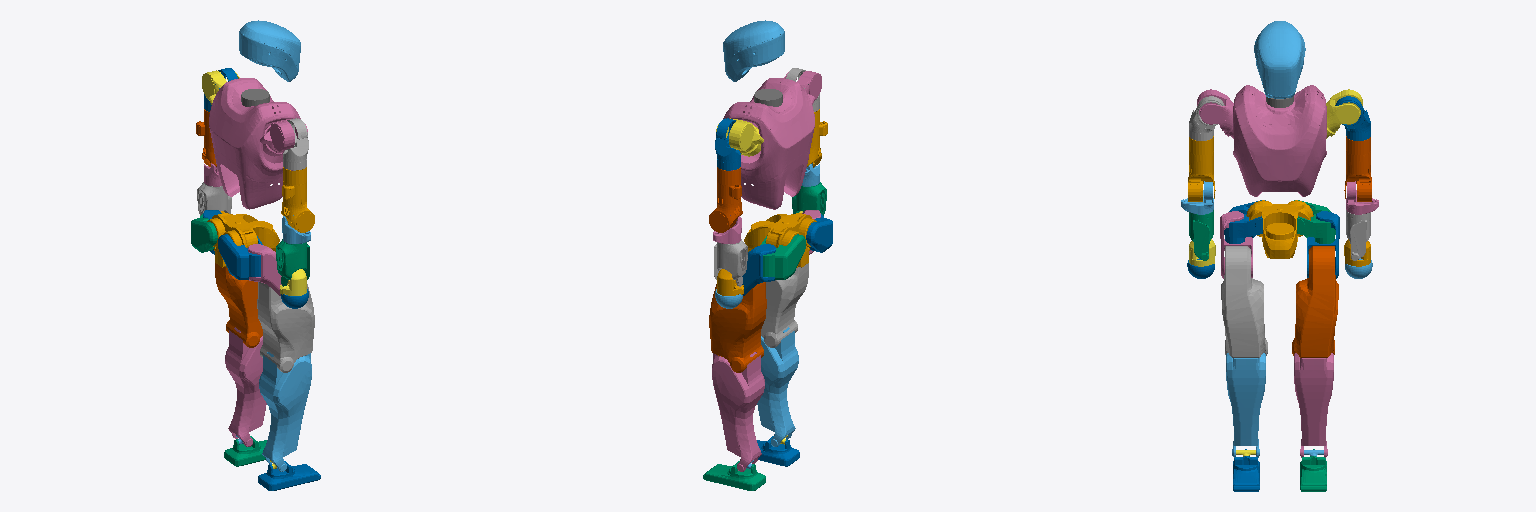
--- Facts derived from the render (not from the file) ---
The picture shows the robot from 3 angles, left to right: view 1: azimuth 30°, elevation 25°; view 2: azimuth 150°, elevation 25°; view 3: azimuth 270°, elevation 25°; orthographic projection.
Robot: Alexander — 51 links, 50 joints (29 revolute, 21 fixed); root link PELVIS_LINK; default pose: every joint at zero.
Links seen in each view (by area): view 1: TORSO_LINK, RIGHT_SHIN, RIGHT_THIGH, LEFT_SHIN, HEAD_LINK, LEFT_THIGH, PELVIS_LINK, RIGHT_SHOULDER_Z_LINK, RIGHT_HIP_X_LINK, RIGHT_FOOT, RIGHT_WRIST_Z_LINK, RIGHT_SHOULDER_Y_LINK (+6 smaller); view 2: TORSO_LINK, LEFT_SHIN, LEFT_THIGH, RIGHT_SHIN, HEAD_LINK, RIGHT_THIGH, PELVIS_LINK, LEFT_SHOULDER_Z_LINK, LEFT_HIP_X_LINK, LEFT_FOOT, LEFT_WRIST_Z_LINK, LEFT_SHOULDER_Y_LINK (+6 smaller); view 3: TORSO_LINK, LEFT_THIGH, RIGHT_THIGH, HEAD_LINK, LEFT_SHIN, RIGHT_SHIN, PELVIS_LINK, LEFT_SHOULDER_Z_LINK, RIGHT_SHOULDER_Z_LINK, LEFT_SHOULDER_Y_LINK, RIGHT_SHOULDER_Y_LINK, LEFT_FOOT (+11 smaller).
Boxes of the visible links, <box> form: TORSO_LINK: <box>209,78,300,209</box>; RIGHT_SHIN: <box>259,352,311,471</box>; RIGHT_THIGH: <box>257,282,314,372</box>; LEFT_SHIN: <box>225,327,266,446</box>; HEAD_LINK: <box>239,20,300,81</box>; LEFT_THIGH: <box>215,263,262,347</box>; PELVIS_LINK: <box>207,213,279,267</box>; RIGHT_SHOULDER_Z_LINK: <box>281,167,314,232</box>; RIGHT_HIP_X_LINK: <box>218,234,262,279</box>; RIGHT_FOOT: <box>258,461,320,490</box>; RIGHT_WRIST_Z_LINK: <box>276,239,309,286</box>; RIGHT_SHOULDER_Y_LINK: <box>260,118,307,156</box>; TORSO_LINK: <box>723,78,814,209</box>; LEFT_SHIN: <box>712,352,764,471</box>; LEFT_THIGH: <box>709,282,766,372</box>; RIGHT_SHIN: <box>757,327,798,446</box>; HEAD_LINK: <box>723,20,784,81</box>; RIGHT_THIGH: <box>761,263,808,347</box>; PELVIS_LINK: <box>744,213,816,267</box>; LEFT_SHOULDER_Z_LINK: <box>709,167,742,232</box>; LEFT_HIP_X_LINK: <box>761,234,805,279</box>; LEFT_FOOT: <box>703,461,765,490</box>; LEFT_WRIST_Z_LINK: <box>714,239,747,286</box>; LEFT_SHOULDER_Y_LINK: <box>716,118,763,156</box>; TORSO_LINK: <box>1233,85,1326,196</box>; LEFT_THIGH: <box>1292,246,1338,357</box>; RIGHT_THIGH: <box>1221,246,1267,357</box>; HEAD_LINK: <box>1254,21,1305,98</box>; LEFT_SHIN: <box>1294,353,1333,457</box>; RIGHT_SHIN: <box>1226,353,1265,457</box>; PELVIS_LINK: <box>1246,200,1313,258</box>; LEFT_SHOULDER_Z_LINK: <box>1344,136,1371,201</box>; RIGHT_SHOULDER_Z_LINK: <box>1188,136,1215,201</box>; LEFT_SHOULDER_Y_LINK: <box>1326,89,1362,138</box>; RIGHT_SHOULDER_Y_LINK: <box>1197,89,1233,138</box>; LEFT_FOOT: <box>1300,449,1326,491</box>.
Bounding box of the posed robot: 0.3464 × 0.7058 × 1.76 m (x, y, z).
Meshes: 27 distinct files referenced, 31 mesh visuals loaded (27 OBJ).

The robot description file, URDF, robot "Alexander":
<?xml version = "1.0" ?>
<robot name="Alexander">
    <!-- LEFT LEG JOINTS -->
    <joint name="LEFT_HIP_X" type="revolute">
        <origin rpy="0 0 0" xyz="-0.162	0.0595	-0.015"/>
        <axis xyz="1 0 0"/>
        <parent link="PELVIS_LINK"/>
        <child link="LEFT_HIP_X_LINK"/>
        <limit effort="150" lower="-0.3490658504" upper="0.872664626" velocity="9"/>
        <dynamics damping="0.05" friction="0.0"/>
    </joint>
    <joint name="LEFT_HIP_Z" type="revolute">
        <origin rpy="0 0 0" xyz="0.06	0.1	-0.08"/>
        <axis xyz="0 0 1"/>
        <parent link="LEFT_HIP_X_LINK"/>
        <child link="LEFT_HIP_Z_LINK"/>
        <limit effort="60" lower="-0.3490658504" upper="1.0472" velocity="11"/>
        <dynamics damping="0.05" friction="0.0"/>
    </joint>
    <joint name="LEFT_HIP_Y" type="revolute">
        <origin rpy="0 0 0" xyz="0.1045	-0.0573	-0.0525"/>
        <axis xyz="0 1 0"/>
        <parent link="LEFT_HIP_Z_LINK"/>
        <child link="LEFT_THIGH"/>
        <limit effort="200" lower="-2.61799" upper="0.785398" velocity="8"/>
        <dynamics damping="0.05" friction="0.0"/>
    </joint>
    <joint name="LEFT_KNEE_Y" type="revolute">
        <origin rpy="0 0 0" xyz="0	0.018	-0.32"/>
        <axis xyz="0 1 0"/>
        <parent link="LEFT_THIGH"/>
        <child link="LEFT_SHIN"/>
        <limit effort="200" lower="0" upper="2.445206282" velocity="8"/>
        <dynamics damping="0.05" friction="0.0"/>
    </joint>
    <joint name="LEFT_ANKLE_Y" type="revolute">
        <origin rpy="0 0 0" xyz="0	0	-0.41"/>
        <axis xyz="0 1 0"/>
        <parent link="LEFT_SHIN"/>
        <child link="LEFT_ANKLE_Y_LINK"/>
        <limit effort="180" lower="-1.0472" upper="0.523599" velocity="8"/>
        <dynamics damping="0.05" friction="0.0"/>
    </joint>
    <joint name="LEFT_ANKLE_X" type="revolute">
        <origin rpy="0 0 0" xyz="0	0	-0.012"/>
        <axis xyz="1 0 0"/>
        <parent link="LEFT_ANKLE_Y_LINK"/>
        <child link="LEFT_FOOT"/>
        <limit effort="90" lower="-0.436332" upper="0.436332" velocity="8"/>
        <dynamics damping="0.05" friction="0.0"/>
    </joint>

    <!-- RIGHT LEG JOINTS -->
    <joint name="RIGHT_HIP_X" type="revolute">
        <origin rpy="0 0 0" xyz="-0.162	-0.0595	-0.015"/>
        <axis xyz="1 0 0"/>
        <parent link="PELVIS_LINK"/>
        <child link="RIGHT_HIP_X_LINK"/>
        <limit effort="150" lower="-0.872664626" upper="0.3490658504" velocity="9"/>
        <dynamics damping="0.05" friction="0.0"/>
    </joint>
    <joint name="RIGHT_HIP_Z" type="revolute">
        <origin rpy="0 0 0" xyz="0.06	-0.1	-0.08"/>
        <axis xyz="0 0 1"/>
        <parent link="RIGHT_HIP_X_LINK"/>
        <child link="RIGHT_HIP_Z_LINK"/>
        <limit effort="60" lower="-1.0472" upper="0.3490658504" velocity="11"/>
        <dynamics damping="0.05" friction="0.0"/>
    </joint>
    <joint name="RIGHT_HIP_Y" type="revolute">
        <origin rpy="0 0 0" xyz="0.1045	0.0573	-0.0525"/>
        <axis xyz="0 1 0"/>
        <parent link="RIGHT_HIP_Z_LINK"/>
        <child link="RIGHT_THIGH"/>
        <limit effort="200" lower="-2.61799" upper="0.785398" velocity="8"/>
        <dynamics damping="0.05" friction="0.0"/>
    </joint>
    <joint name="RIGHT_KNEE_Y" type="revolute">
        <origin rpy="0 0 0" xyz="0	-0.018	-0.32"/>
        <axis xyz="0 1 0"/>
        <parent link="RIGHT_THIGH"/>
        <child link="RIGHT_SHIN"/>
        <limit effort="200" lower="0" upper="2.445206282" velocity="8"/>
        <dynamics damping="0.05" friction="0.0"/>
    </joint>
    <joint name="RIGHT_ANKLE_Y" type="revolute">
        <origin rpy="0 0 0" xyz="0	0	-0.41"/>
        <axis xyz="0 1 0"/>
        <parent link="RIGHT_SHIN"/>
        <child link="RIGHT_ANKLE_Y_LINK"/>
        <limit effort="180" lower="-1.0472" upper="0.523599" velocity="8"/>
        <dynamics damping="0.05" friction="0.0"/>
    </joint>
    <joint name="RIGHT_ANKLE_X" type="revolute">
        <origin rpy="0 0 0" xyz="0	0	-0.012"/>
        <axis xyz="1 0 0"/>
        <parent link="RIGHT_ANKLE_Y_LINK"/>
        <child link="RIGHT_FOOT"/>
        <limit effort="90" lower="-0.436332" upper="0.436332" velocity="8"/>
        <dynamics damping="0.05" friction="0.0"/>
    </joint>

    <!-- SPINE JOINTS -->
    <joint name="SPINE_Z" type="revolute">
        <origin rpy="0 0 0" xyz="0.0 0 0.018"/> <!-- check with CAD -->
        <axis xyz="0 0 1"/>
        <parent link="PELVIS_LINK"/>
        <child link="TORSO_LINK"/>
        <limit effort="150" lower="-0.5235987756" upper="0.5235987756" velocity="9.0"/>
        <dynamics damping="0.05" friction="0.0"/>
    </joint>

    <!-- LEFT ARM JOINTS -->
    <joint name="LEFT_SHOULDER_Y" type="revolute">
        <origin xyz="-0.015 0.115474 0.352984" rpy="0.698132 0.0 0.0"/>
        <axis xyz="0.0 1.0 0.0"/>
        <parent link="TORSO_LINK"/>
        <child link="LEFT_SHOULDER_Y_LINK"/>
        <limit effort="150.0" lower="-3.141592" upper="1.22173" velocity="9.0"/>
        <dynamics damping="0.05" friction="0.0"/>
    </joint>
    <joint name="LEFT_SHOULDER_X" type="revolute">
        <origin rpy="-0.698132 0.0 0.0" xyz="0.0 0.15676000 -0.01300000"/>
        <axis xyz="1 0 0"/>
        <parent link="LEFT_SHOULDER_Y_LINK"/>
        <child link="LEFT_SHOULDER_X_LINK"/>
        <limit effort="150.0" lower="-0.349066" upper="2.79253" velocity="9.0"/>
        <dynamics damping="0.05" friction="0.0"/>
    </joint>
    <joint name="LEFT_SHOULDER_Z" type="revolute">
        <origin rpy="0.0 0.0 0.0" xyz="0.0 0.035 0.0"/>
        <axis xyz="0.0 0.0 1.0"/>
        <parent link="LEFT_SHOULDER_X_LINK"/>
        <child link="LEFT_SHOULDER_Z_LINK"/>
        <limit effort="80.0" lower="-1.91986" upper="1.22173" velocity="11.5"/>
        <dynamics damping="0.05" friction="0.0"/>
    </joint>
    <joint name="LEFT_ELBOW_Y" type="revolute">
        <origin rpy="0.0 0.0 0.0" xyz="0.015 0.0 -0.3127"/>
        <axis xyz="0.0 1.0 0.0"/>
        <parent link="LEFT_SHOULDER_Z_LINK"/>
        <child link="LEFT_ELBOW_Y_LINK"/>
        <limit effort="80.0" lower="-2.35619" upper="0.174532925" velocity="11.5"/>
        <dynamics damping="0.05" friction="0.0"/>
    </joint>
    <joint name="LEFT_WRIST_Z" type="revolute">
        <origin xyz="-0.015 0.0 0.0" rpy="0.0 0.0 0.0"/>
        <axis xyz="0.0 0.0 1.0"/>
        <parent link="LEFT_ELBOW_Y_LINK"/>
        <child link="LEFT_WRIST_Z_LINK"/>
        <limit effort="20.0" lower="-2.61799" upper="2.61799" velocity="25.0"/>
        <dynamics damping="0.05" friction="0.0"/>
    </joint>
    <joint name="LEFT_WRIST_X" type="revolute">
        <origin xyz="0.0 -0.013 -0.25" rpy="0.0 0.0 0.0"/>
        <axis xyz="1 0 0"/>
        <parent link="LEFT_WRIST_Z_LINK"/>
        <child link="LEFT_WRIST_X_LINK"/>
        <limit effort="20.0" lower="-1.8326" upper="0.610865" velocity="25.0"/>
        <dynamics damping="0.05" friction="0.0"/>
    </joint>
    <joint name="LEFT_GRIPPER_Z" type="revolute">
        <origin xyz="0.0 0.013 -0.031" rpy="0.0 0.0 0.0"/>
        <axis xyz="0.0 0.0 1.0"/>
        <parent link="LEFT_WRIST_X_LINK"/>
        <child link="LEFT_GRIPPER_Z_LINK"/>
        <limit effort="20.0" lower="-2.61799" upper="2.61799" velocity="25.0"/>
        <dynamics damping="0.05" friction="0.0"/>
    </joint>

    <!-- NECK JOINTS -->
    <joint name="NECK_Z" type="revolute">
        <origin rpy="0 0 0" xyz="-0.015 0 0.450403"/>
        <axis xyz="0 0 1"/>
        <parent link="TORSO_LINK"/>
        <child link="NECK_Z_LINK"/>
        <limit effort="20" lower="-1.5708" upper="1.5708" velocity="20"/>
        <dynamics damping="0.05" friction="0.0"/>
    </joint>
    <joint name="NECK_Y" type="revolute">
        <origin rpy="0 0 0" xyz="0.025 0.01 0.189597"/>
        <axis xyz="0 1 0"/>
        <parent link="NECK_Z_LINK"/>
        <child link="HEAD_LINK"/>
        <limit effort="20" lower="-1.0472" upper="1.0472" velocity="20"/>
        <dynamics damping="0.05" friction="0.0"/>
    </joint>

    <!-- RIGHT ARM JOINTS -->
    <joint name="RIGHT_SHOULDER_Y" type="revolute">
        <origin xyz="-0.015 -0.115474 0.352984" rpy="-0.698132 0.0 0.0"/>
        <axis xyz="0.0 1.0 0.0"/>
        <parent link="TORSO_LINK"/>
        <child link="RIGHT_SHOULDER_Y_LINK"/>
        <limit effort="1000" lower="-3.141592" upper="1.22173" velocity="100"/>
        <dynamics damping="0.05" friction="0.0"/>
    </joint>
    <joint name="RIGHT_SHOULDER_X" type="revolute">
        <origin rpy="0.698132 0.0 0.0" xyz="0.0 -0.15676000 -0.01300000"/>
        <axis xyz="1 0 0"/>
        <parent link="RIGHT_SHOULDER_Y_LINK"/>
        <child link="RIGHT_SHOULDER_X_LINK"/>
        <limit effort="1000" lower="-2.79253" upper="0.349066" velocity="100"/>
        <dynamics damping="0.05" friction="0.0"/>
    </joint>
    <joint name="RIGHT_SHOULDER_Z" type="revolute">
        <origin rpy="0.0 0.0 0.0" xyz="0.0 -0.035 0.0"/>
        <axis xyz="0.0 0.0 1.0"/>
        <parent link="RIGHT_SHOULDER_X_LINK"/>
        <child link="RIGHT_SHOULDER_Z_LINK"/>
        <limit effort="1000" lower="-1.22173" upper="1.91986" velocity="100"/>
        <dynamics damping="0.05" friction="0.0"/>
    </joint>
    <joint name="RIGHT_ELBOW_Y" type="revolute">
        <origin rpy="0.0 0.0 0.0" xyz="0.015 0.0 -0.3127"/>
        <axis xyz="0.0 1.0 0.0"/>
        <parent link="RIGHT_SHOULDER_Z_LINK"/>
        <child link="RIGHT_ELBOW_Y_LINK"/>
        <limit effort="1000" lower="-2.35619" upper="0.174532925" velocity="100"/>
        <dynamics damping="0.05" friction="0.0"/>
    </joint>
    <joint name="RIGHT_WRIST_Z" type="revolute">
        <origin xyz="-0.015 0.0 0.0" rpy="0.0 0.0 0.0"/>
        <axis xyz="0.0 0.0 1.0"/>
        <parent link="RIGHT_ELBOW_Y_LINK"/>
        <child link="RIGHT_WRIST_Z_LINK"/>
        <limit effort="20.0" lower="-2.61799" upper="2.61799" velocity="25.0"/>
        <dynamics damping="0.05" friction="0.0"/>
    </joint>
    <joint name="RIGHT_WRIST_X" type="revolute">
        <origin xyz="0.0 0.013 -0.25" rpy="0.0 0.0 0.0"/>
        <axis xyz="1 0 0"/>
        <parent link="RIGHT_WRIST_Z_LINK"/>
        <child link="RIGHT_WRIST_X_LINK"/>
        <limit effort="20.0" lower="-0.610865" upper="1.8326" velocity="25.0"/>
        <dynamics damping="0.05" friction="0.0"/>
    </joint>
    <joint name="RIGHT_GRIPPER_Z" type="revolute">
        <origin xyz="0.0 -0.013 -0.031" rpy="0.0 0.0 0.0"/>
        <axis xyz="0.0 0.0 1.0"/>
        <parent link="RIGHT_WRIST_X_LINK"/>
        <child link="RIGHT_GRIPPER_Z_LINK"/>
        <limit effort="20.0" lower="-2.61799" upper="2.61799" velocity="25.0"/>
        <dynamics damping="0.05" friction="0.0"/>
    </joint>

    <!-- LINKS -->
    <link name="PELVIS_LINK">
        <inertial>
            <mass value="9.50083635"/>
            <origin rpy="0 0 0" xyz="-0.08354287 0.00005291 -0.03484828"/>
            <inertia ixx="0.03428688" ixy="0.00001151" ixz="0.00015935" iyy="0.05178848" iyz="0.00004514" izz="0.06001929"/>
        </inertial>
        <visual>
            <geometry>
                <mesh filename="../../meshes/alexander/legs/Pelvis.obj"/>
            </geometry>
            <origin rpy="0.0 0.0 0.0" xyz="0.0 0.0 0.0"/>
        </visual>
        <collision name="pelvis_collision">
            <geometry>
                <box size="0.15 0.10 0.12"/>
            </geometry>
            <origin xyz="0.0 0.0 -0.05" rpy="0.0 0.0 0.0"/>
        </collision>
    </link>
    <!-- Pelvis IMU -->
    <joint name="PELVIS_IMU_JOINT" type="fixed">
        <parent link="PELVIS_LINK"/>
        <child link="PELVIS_IMU_LINK"/>
        <origin xyz="-0.08687724 0.01225028 -0.08051472" rpy="-0.01399 -0.013054 1.570796"/>
    </joint>

    <link name="PELVIS_IMU_LINK">
        <inertial>
            <mass value="0.0"/>
            <origin xyz="0 0 0" rpy="0 0 0"/>
            <inertia ixx="0.0" ixy="0.0" ixz="0.0" iyy="0.0" iyz="0.0" izz="0.0"/>
        </inertial>
    </link>

    <gazebo reference="PELVIS_IMU_LINK">
        <sensor name="pelvis_imu" type="imu">
            <always_on>1</always_on>
            <update_rate>1000.0</update_rate>
            <imu>
                <noise>
                    <type>gaussian</type>
                    <rate>
                        <mean>0.0</mean>
                        <stddev>2e-4</stddev>
                        <bias_mean>0.0000075</bias_mean>
                        <bias_stddev>0.0000008</bias_stddev>
                    </rate>
                    <accel>
                        <mean>0.0</mean>
                        <stddev>1.7e-2</stddev>
                        <bias_mean>0.1</bias_mean>
                        <bias_stddev>0.001</bias_stddev>
                    </accel>
                </noise>
            </imu>
        </sensor>
    </gazebo>
    <!-- end pelvis imu -->

    <!-- LEFT LEG LINKS -->
    <link name="LEFT_HIP_X_LINK">
        <inertial>
            <mass value="2.32977961"/>
            <origin rpy="0 0 0" xyz="0.04350911	0.08708606 -0.03525761"/>
            <inertia ixx="0.00467452" ixy="-0.00058626" ixz="0.00013124" iyy="0.00516613" iyz="0.00048141" izz="0.00553124"/>
        </inertial>
        <visual>
            <geometry>
                <mesh filename="../../meshes/alexander/legs/LeftHipRollLink.obj"/>
            </geometry>
            <origin rpy="0.0 0.0 0.0" xyz="0.0 0.0 0.0"/>
        </visual>
        <collision name="left_hip_x_collision">
            <geometry>
                <box size="0.02 0.12 0.10"/>
            </geometry>
            <origin rpy="0.0 0.0 0.0" xyz="-0.02 0.02 0.0"/>
        </collision>
    </link>

    <!-- LeftHipRollIMU-->
    <link name="LEFT_HIP_X_IMU_LINK">
        <inertial>
            <mass value="0"/>
            <origin rpy="0 0 0" xyz="0 0 0"/>
            <inertia ixx="0.0" ixy="0.0" ixz="0.0" iyy="0.0" iyz="0.0" izz="0.0"/>
        </inertial>
    </link>
    <joint name="LEFT_HIP_X_IMU_JOINT" type="fixed">
        <origin rpy="-1.570796 0 1.570796" xyz="-0.01922309 0.10145013 -0.01488788"/>
        <axis xyz="0 0 1"/>
        <parent link="LEFT_HIP_X_LINK"/>
        <child link="LEFT_HIP_X_IMU_LINK"/>
    </joint>
    <gazebo reference="LEFT_HIP_X_IMU_JOINT">
        <sensor name="left_hip_x_imu" type="imu">
            <always_on>true</always_on>
            <imu>
                <noise>
                    <type>gaussian</type>
                    <rate>
                        <mean>0</mean>
                        <stddev>0.0002</stddev>
                        <bias_mean>7.5e-06</bias_mean>
                        <bias_stddev>8e-07</bias_stddev>
                    </rate>
                    <accel>
                        <mean>0</mean>
                        <stddev>0.017</stddev>
                        <bias_mean>0.1</bias_mean>
                        <bias_stddev>0.001</bias_stddev>
                    </accel>
                </noise>
            </imu>
        </sensor>
    </gazebo>

    <link name="LEFT_HIP_Z_LINK">
        <inertial>
            <mass value="0.77281362"/>
            <origin rpy="0 0 0" xyz="0.04549595	-0.00525571	-0.00937454"/>
            <inertia ixx="0.00317639" ixy="0.00005807" ixz="0.00080598" iyy="0.00345182" iyz="0.00047441" izz="0.00313245"/>
        </inertial>
        <visual>
            <geometry>
                <mesh filename="../../meshes/alexander/legs/LeftHipYawLink.obj"/>
            </geometry>
            <origin rpy="0.0 0.0 0.0" xyz="0 0 0"/>
        </visual>
    </link>
    <link name="LEFT_THIGH">
        <inertial>
            <mass value="7.75"/><!-- CAD Mass 6.31087157 (Hacked April 1 2025 to match IRL Scale of whole robot) -->
            <origin rpy="0 0 0" xyz="0.01417302	0.03268781	-0.10548314"/>
            <inertia ixx="0.09264028" ixy="0.00038532" ixz="0.00916409" iyy="0.09733033" iyz="-0.0043516" izz="0.02803877"/>
        </inertial>
        <visual>
            <geometry>
                <mesh filename="../../meshes/alexander/legs/LeftThigh.obj"/>
            </geometry>
            <origin rpy="0.0 0.0 0.0" xyz="0 0 0"/>
        </visual>
        <collision name="left_thigh_collision">
            <geometry>
                <box size="0.16 0.13 0.29"/> <!-- width (X), depth (Y), height (Z) -->
            </geometry>
            <origin rpy="0.0 0.0 0.0" xyz="0.03 0.03 -0.15"/> <!-- Centered along thigh -->
        </collision>
    </link>
    <link name="LEFT_SHIN">
        <inertial>
            <mass value="6.31087157"/><!-- CAD Mass 6.31087157 (Hacked April 1 2025 to match IRL Scale of whole robot) -->
            <origin rpy="0 0 0" xyz="0.03807965	-0.00108105	-0.12410027"/>
            <inertia ixx="0.08823148" ixy="-0.00054706" ixz="-0.00634132" iyy="0.09163264" iyz="0.00002714" izz="0.01569601"/>
        </inertial>
        <visual>
            <geometry>
                <mesh filename="../../meshes/alexander/legs/LeftShin.obj"/>
            </geometry>
            <origin rpy="0.0 0.0 0.0" xyz="0 0 0"/>
        </visual>
        <collision name="left_shin_collision">
            <geometry>
                <cylinder radius="0.08" length="0.3"/>  <!-- Adjust based on shin dimensions -->
            </geometry>
            <origin rpy="0.0 0.0 0.0" xyz="0.04 0.0 -0.14"/> <!-- Centered along shin -->
        </collision>
    </link>

    <!-- LeftThighIMU-->
    <link name="LEFT_THIGH_IMU_LINK">
        <inertial>
            <mass value="0"/>
            <origin rpy="0 0 0" xyz="0 0 0"/>
            <inertia ixx="0.0" ixy="0.0" ixz="0.0" iyy="0.0" iyz="0.0" izz="0.0"/>
        </inertial>
    </link>
    <joint name="LEFT_THIGH_IMU_JOINT" type="fixed">
        <origin rpy="1.6947717585 0 1.570796" xyz="0.10004 0.03746 -0.21194"/>
        <axis xyz="0 0 1"/>
        <parent link="LEFT_THIGH"/>
        <child link="LEFT_THIGH_IMU_LINK"/>
    </joint>
    <gazebo reference="LEFT_THIGH_IMU_LINK">
        <sensor name="left_thigh_imu" type="imu">
            <always_on>true</always_on>
            <imu>
                <noise>
                    <type>gaussian</type>
                    <rate>
                        <mean>0</mean>
                        <stddev>0.0002</stddev>
                        <bias_mean>7.5e-06</bias_mean>
                        <bias_stddev>8e-07</bias_stddev>
                    </rate>
                    <accel>
                        <mean>0</mean>
                        <stddev>0.017</stddev>
                        <bias_mean>0.1</bias_mean>
                        <bias_stddev>0.001</bias_stddev>
                    </accel>
                </noise>
            </imu>
        </sensor>
    </gazebo>

    <!-- LeftShinIMU-->
    <link name="LEFT_SHIN_IMU_LINK">
        <inertial>
            <mass value="0"/>
            <origin rpy="0 0 0" xyz="0 0 0"/>
            <inertia ixx="0.0" ixy="0.0" ixz="0.0" iyy="0.0" iyz="0.0" izz="0.0"/>
        </inertial>
    </link>
    <joint name="LEFT_SHIN_IMU_JOINT" type="fixed">
        <origin rpy="1.403695170631842 0 -1.570796" xyz="0.05655120 0.00084826 -0.15664831"/>
        <axis xyz="0 0 1"/>
        <parent link="LEFT_SHIN"/>
        <child link="LEFT_SHIN_IMU_LINK"/>
    </joint>
    <gazebo reference="LEFT_SHIN_IMU_LINK">
        <sensor name="left_shin_imu" type="imu">
            <always_on>true</always_on>
            <imu>
                <noise>
                    <type>gaussian</type>
                    <rate>
                        <mean>0</mean>
                        <stddev>0.0002</stddev>
                        <bias_mean>7.5e-06</bias_mean>
                        <bias_stddev>8e-07</bias_stddev>
                    </rate>
                    <accel>
                        <mean>0</mean>
                        <stddev>0.017</stddev>
                        <bias_mean>0.1</bias_mean>
                        <bias_stddev>0.001</bias_stddev>
                    </accel>
                </noise>
            </imu>
        </sensor>
    </gazebo>

    <link name="LEFT_ANKLE_Y_LINK">
        <inertial>
            <mass value="0.05045632"/>
            <origin rpy="0 0 0" xyz="2.94E-07	2.22E-07	-0.00462997"/>
            <inertia ixx="0.00001733" ixy="2.12E-10" ixz="-1.26E-10" iyy="0.00000714" iyz="-2.02E-11" izz="0.00001851"/>
        </inertial>
        <visual>
            <geometry>
                <mesh filename="../../meshes/alexander/legs/AnklePitchLink.obj"/>
            </geometry>
            <origin rpy="0.0 0.0 0.0" xyz="0 0 0"/>
        </visual>
    </link>
    <link name="LEFT_FOOT">
        <inertial>
            <mass value="1.28288609"/>
            <origin rpy="0 0 0" xyz="0.03793372	-0.00000219	-0.0443663"/>
            <inertia ixx="0.00131328" ixy="0.00001057" ixz="0.00036242" iyy="0.00385286" iyz="-0.0000069" izz="0.00406301"/>
        </inertial>
        <visual>
            <geometry>
                <mesh filename="../../meshes/alexander/legs/Foot.obj"/>
            </geometry>
            <origin rpy="0.0 0.0 0.0" xyz="0 0 0"/>
        </visual>
        <collision name="left_foot_collision">
            <geometry>
                <box size="0.22 0.1 0.02"/>
            </geometry>
            <origin rpy="0 0 0" xyz="0.05 0 -0.06"/>
        </collision>
    </link>

    <!-- LeftFootIMU-->
    <link name="LEFT_FOOT_IMU_LINK">
        <inertial>
            <mass value="0"/>
            <origin rpy="0 0 0" xyz="0 0 0"/>
            <inertia ixx="0.0" ixy="0.0" ixz="0.0" iyy="0.0" iyz="0.0" izz="0.0"/>
        </inertial>
    </link>
    <joint name="LEFT_FOOT_IMU_JOINT" type="fixed">
        <origin rpy="0 0 1.570796" xyz="-0.03575526 0.01180178 -0.04979705"/>
        <axis xyz="0 0 1"/>
        <parent link="LEFT_FOOT"/>
        <child link="LEFT_FOOT_IMU_LINK"/>
    </joint>
    <gazebo reference="LEFT_FOOT_IMU_LINK">
        <sensor name="left_foot_imu" type="imu">
            <always_on>true</always_on>
            <imu>
                <noise>
                    <type>gaussian</type>
                    <rate>
                        <mean>0</mean>
                        <stddev>0.0002</stddev>
                        <bias_mean>7.5e-06</bias_mean>
                        <bias_stddev>8e-07</bias_stddev>
                    </rate>
                    <accel>
                        <mean>0</mean>
                        <stddev>0.017</stddev>
                        <bias_mean>0.1</bias_mean>
                        <bias_stddev>0.001</bias_stddev>
                    </accel>
                </noise>
            </imu>
        </sensor>
    </gazebo>

    <!-- RIGHT LEG LINKS -->
    <link name="RIGHT_HIP_X_LINK">
        <inertial>
            <mass value="2.32977248"/>
            <origin rpy="0 0 0" xyz="0.04351957	-0.08688935	-0.03525357"/>
            <inertia ixx="0.00467576" ixy="0.00061004" ixz="0.00013038" iyy="0.00516385" iyz="-0.00047381" izz="0.00552901"/>
        </inertial>
        <visual>
            <geometry>
                <mesh filename="../../meshes/alexander/legs/RightHipRollLink.obj"/>
            </geometry>
            <origin rpy="0.0 0.0 0.0" xyz="0.0 0.0 0.0"/>
        </visual>
        <collision name="right_hip_x_collision">
            <geometry>
                <box size="0.02 0.12 0.10"/>
            </geometry>
            <origin rpy="0.0 0.0 0.0" xyz="-0.02 -0.02 0.0"/>
        </collision>
    </link>

    <!-- RightHipRollIMU-->
    <link name="RIGHT_HIP_X_IMU_LINK">
        <inertial>
            <mass value="0"/>
            <origin rpy="0 0 0" xyz="0 0 0"/>
            <inertia ixx="0.0" ixy="0.0" ixz="0.0" iyy="0.0" iyz="0.0" izz="0.0"/>
        </inertial>
    </link>
    <joint name="RIGHT_HIP_X_IMU_JOINT" type="fixed">
        <origin rpy="-1.570796 0 1.570796" xyz="-0.01922309 -0.07694987 -0.01488788"/>
        <axis xyz="0 0 1"/>
        <parent link="RIGHT_HIP_X_LINK"/>
        <child link="RIGHT_HIP_X_IMU_LINK"/>
    </joint>
    <gazebo reference="RIGHT_HIP_X_IMU_LINK">
        <sensor name="right_hip_x_imu" type="imu">
            <always_on>true</always_on>
            <imu>
                <noise>
                    <type>gaussian</type>
                    <rate>
                        <mean>0</mean>
                        <stddev>0.0002</stddev>
                        <bias_mean>7.5e-06</bias_mean>
                        <bias_stddev>8e-07</bias_stddev>
                    </rate>
                    <accel>
                        <mean>0</mean>
                        <stddev>0.017</stddev>
                        <bias_mean>0.1</bias_mean>
                        <bias_stddev>0.001</bias_stddev>
                    </accel>
                </noise>
            </imu>
        </sensor>
    </gazebo>

    <link name="RIGHT_HIP_Z_LINK">
        <inertial>
            <mass value="0.77281055"/>
            <origin rpy="0 0 0" xyz="0.04549274	0.00525784	-0.00937505"/>
            <inertia ixx="0.00317639" ixy="-0.00005765" ixz="0.00080587" iyy="0.00345166" iyz="-0.00047466" izz="0.00313223"/>
        </inertial>
        <visual>
            <geometry>
                <mesh filename="../../meshes/alexander/legs/RightHipYawLink.obj"/>
            </geometry>
            <origin rpy="0.0 0.0 0.0" xyz="0 0 0"/>
        </visual>
    </link>
    <link name="RIGHT_THIGH">
        <inertial>
            <mass value="7.75"/><!-- CAD Mass 6.31087157 (Hacked April 1 2025 to match IRL Scale of whole robot) -->
            <origin rpy="0 0 0" xyz="0.01411846	-0.03282392	-0.10542795"/>
            <inertia ixx="0.09273162" ixy="-0.00026689" ixz="0.00921343" iyy="0.09738701" iyz="0.00422485" izz="0.02802165"/>
        </inertial>
        <visual>
            <geometry>
                <mesh filename="../../meshes/alexander/legs/RightThigh.obj"/>
            </geometry>
            <origin rpy="0.0 0.0 0.0" xyz="0 0 0"/>
        </visual>
        <collision name="right_thigh_collision">
            <geometry>
                <box size="0.16 0.13 0.29"/><!-- width (X), depth (Y), height (Z) -->
            </geometry>
            <origin rpy="0.0 0.0 0.0" xyz="0.03 -0.03 -0.15"/>
        </collision>
    </link>

    <!-- RightThighIMU-->
    <link name="RIGHT_THIGH_IMU_LINK">
        <inertial>
            <mass value="0"/>
            <origin rpy="0 0 0" xyz="0 0 0"/>
            <inertia ixx="0.0" ixy="0.0" ixz="0.0" iyy="0.0" iyz="0.0" izz="0.0"/>
        </inertial>
    </link>
    <joint name="RIGHT_THIGH_IMU_JOINT" type="fixed">
        <origin rpy="1.6947717585 0 1.570796" xyz="0.10003618 -0.033541826 -0.21194191"/>
        <axis xyz="0 0 1"/>
        <parent link="RIGHT_THIGH"/>
        <child link="RIGHT_THIGH_IMU_LINK"/>
    </joint>
    <gazebo reference="RIGHT_THIGH_IMU_LINK">
        <sensor name="right_thigh_imu" type="imu">
            <always_on>true</always_on>
            <imu>
                <noise>
                    <type>gaussian</type>
                    <rate>
                        <mean>0</mean>
                        <stddev>0.0002</stddev>
                        <bias_mean>7.5e-06</bias_mean>
                        <bias_stddev>8e-07</bias_stddev>
                    </rate>
                    <accel>
                        <mean>0</mean>
                        <stddev>0.017</stddev>
                        <bias_mean>0.1</bias_mean>
                        <bias_stddev>0.001</bias_stddev>
                    </accel>
                </noise>
            </imu>
        </sensor>
    </gazebo>

    <link name="RIGHT_SHIN">
        <inertial>
            <mass value="6.31087157"/><!-- CAD Mass 6.31087157 (Hacked April 1 2025 to match IRL Scale of whole robot) -->
            <origin rpy="0 0 0" xyz="0.03807648	0.00113375	-0.12408765"/>
            <inertia ixx="0.08705693" ixy="0.00057277" ixz="-0.00674654" iyy="0.090231" iyz="0.00028332" izz="0.01554032"/>
        </inertial>
        <visual>
            <geometry>
                <mesh filename="../../meshes/alexander/legs/RightShin.obj"/>
            </geometry>
            <origin rpy="0.0 0.0 0.0" xyz="0 0 0"/>
        </visual>
        <collision name="right_shin_collision">
            <geometry>
                <cylinder radius="0.08" length="0.3"/>
            </geometry>
            <origin rpy="0 0 0" xyz="0.04 0 -0.14"/> <!-- centered along the shin length -->
        </collision>
    </link>

    <!-- RightShinIMU-->
    <link name="RIGHT_SHIN_IMU_LINK">
        <inertial>
            <mass value="0"/>
            <origin rpy="0 0 0" xyz="0 0 0"/>
            <inertia ixx="0.0" ixy="0.0" ixz="0.0" iyy="0.0" iyz="0.0" izz="0.0"/>
        </inertial>
    </link>
    <joint name="RIGHT_SHIN_IMU_JOINT" type="fixed">
        <origin rpy="1.403695170631842 0 -1.570796" xyz="0.05673025 -0.00875818 -0.15674961"/>
        <axis xyz="0 0 1"/>
        <parent link="RIGHT_SHIN"/>
        <child link="RIGHT_SHIN_IMU_LINK"/>
    </joint>
    <gazebo reference="RIGHT_SHIN_IMU_LINK">
        <sensor name="right_shin_imu" type="imu">
            <always_on>true</always_on>
            <imu>
                <noise>
                    <type>gaussian</type>
                    <rate>
                        <mean>0</mean>
                        <stddev>0.0002</stddev>
                        <bias_mean>7.5e-06</bias_mean>
                        <bias_stddev>8e-07</bias_stddev>
                    </rate>
                    <accel>
                        <mean>0</mean>
                        <stddev>0.017</stddev>
                        <bias_mean>0.1</bias_mean>
                        <bias_stddev>0.001</bias_stddev>
                    </accel>
                </noise>
            </imu>
        </sensor>
    </gazebo>

    <link name="RIGHT_ANKLE_Y_LINK">
        <inertial>
            <mass value="0.05045632"/>
            <origin rpy="0 0 0" xyz="2.94E-07	2.22E-07	-0.00462997"/>
            <inertia ixx="0.00001733" ixy="2.12E-10" ixz="-1.26E-10" iyy="0.00000714" iyz="-2.02E-11" izz="0.00001851"/>
        </inertial>
        <visual>
            <geometry>
                <mesh filename="../../meshes/alexander/legs/AnklePitchLink.obj"/>
            </geometry>
            <origin rpy="0.0 0.0 0.0" xyz="0 0 0"/>
        </visual>
    </link>
    <link name="RIGHT_FOOT">
        <inertial>
            <mass value="1.28288609"/>
            <origin rpy="0 0 0" xyz="0.03793372	-0.00000219	-0.0443663"/>
            <inertia ixx="0.00131328" ixy="0.00001057" ixz="0.00036242" iyy="0.00385286" iyz="-0.0000069" izz="0.00406301"/>
        </inertial>
        <visual>
            <geometry>
                <mesh filename="../../meshes/alexander/legs/Foot.obj"/>
            </geometry>
            <origin rpy="0.0 0.0 0.0" xyz="0 0 0"/>
        </visual>
        <collision name="right_foot_collision">
            <geometry>
                <box size="0.22 0.1 0.02"/>
            </geometry>
            <origin rpy="0 0 0" xyz="0.05 0 -0.06"/>
        </collision>
    </link>

    <!-- RightFootIMU-->
    <link name="RIGHT_FOOT_IMU_LINK">
        <inertial>
            <mass value="0"/>
            <origin rpy="0 0 0" xyz="0 0 0"/>
            <inertia ixx="0.0" ixy="0.0" ixz="0.0" iyy="0.0" iyz="0.0" izz="0.0"/>
        </inertial>
    </link>
    <joint name="RIGHT_FOOT_IMU_JOINT" type="fixed">
        <origin rpy="0 0 1.570796" xyz="-0.03575526 0.01180178 -0.04979705"/>
        <axis xyz="0 0 1"/>
        <parent link="RIGHT_FOOT"/>
        <child link="RIGHT_FOOT_IMU_LINK"/>
    </joint>
    <gazebo reference="RIGHT_FOOT_IMU_LINK">
        <sensor name="right_foot_imu" type="imu">
            <always_on>true</always_on>
            <imu>
                <noise>
                    <type>gaussian</type>
                    <rate>
                        <mean>0</mean>
                        <stddev>0.0002</stddev>
                        <bias_mean>7.5e-06</bias_mean>
                        <bias_stddev>8e-07</bias_stddev>
                    </rate>
                    <accel>
                        <mean>0</mean>
                        <stddev>0.017</stddev>
                        <bias_mean>0.1</bias_mean>
                        <bias_stddev>0.001</bias_stddev>
                    </accel>
                </noise>
            </imu>
        </sensor>
    </gazebo>

    <!-- SPINE LINKS -->
    <link name="TORSO_LINK">
        <inertial>
            <mass value="7.0081"/> <!-- Original was 4.352, measured mass of whole robot and put delta into this torso mass (08/12/2025 Stefan and Robert)-->
            <origin rpy="0 0 0" xyz="-0.034 0.0 0.297"/>
            <inertia ixx="0.077" ixy="9.64E-06" ixz="0.008" iyy="0.068" iyz="7.24E-06" izz="0.033"/>
        </inertial>
        <visual>
            <geometry>
                <mesh filename="../../meshes/alexander/torso.obj"/>
            </geometry>
            <origin rpy="0.0 0.0 0.0" xyz="0.0 0.0 0.105063"/>
        </visual>
        <collision name="torso_collision">
            <geometry>
                <box size="0.275 0.33 0.43"/>
            </geometry>
            <origin xyz="-0.01 0.00 0.3" rpy="0 0 0"/>
        </collision>
    </link>

    <!-- TORSO IMU -->
    <joint name="TORSO_IMU_JOINT" type="fixed">
        <origin rpy="0.0 0.0 -1.5708" xyz="-0.009753 -0.01075 0.373405"/>
        <axis xyz="0 0 1"/>
        <parent link="TORSO_LINK"/>
        <child link="TORSO_IMU_LINK"/>
    </joint>

    <link name="TORSO_IMU_LINK">
        <inertial>
            <mass value="0"/>
            <origin rpy="0 0 0" xyz="0 0 0"/>
            <inertia ixx="0.0" ixy="0.0" ixz="0.0" iyy="0.0" iyz="0.0" izz="0.0"/>
        </inertial>
    </link>

    <gazebo reference="TORSO_IMU_LINK">
        <sensor name="torso_imu" type="imu">
            <always_on>true</always_on>
            <imu>
                <noise>
                    <type>gaussian</type>
                    <rate>
                        <mean>0</mean>
                        <stddev>0.0002</stddev>
                        <bias_mean>7.5e-06</bias_mean>
                        <bias_stddev>8e-07</bias_stddev>
                    </rate>
                    <accel>
                        <mean>0</mean>
                        <stddev>0.017</stddev>
                        <bias_mean>0.1</bias_mean>
                        <bias_stddev>0.001</bias_stddev>
                    </accel>
                </noise>
            </imu>
        </sensor>
    </gazebo>

    <!-- NECK & Head LINKS -->
    <link name="NECK_Z_LINK">
        <inertial>
            <mass value="1.141"/>
            <origin rpy="0 0 0" xyz="0.007143 0.006943 0.109823"/>
            <inertia ixx="0.007475898" ixy="-0.000075723" ixz="-0.000745362" iyy="0.007407578" iyz="-0.000436948" izz="0.00109269"/>
        </inertial>
        <visual>
            <geometry>
                <cylinder radius="0.05" length="0.1"/>
            </geometry>
            <material name="gray">
                <color rgba="0.5 0.5 0.5 1.0"/>
            </material>
            <origin rpy="0.0 0.0 0.0" xyz="0 0 0.0"/>
        </visual>
    </link>
    <link name="HEAD_LINK">
        <inertial>
            <mass value="1.677"/>
            <origin rpy="0 0 0" xyz="0.03237 -0.013568 0.007163"/>
            <inertia ixx="0.006026191" ixy="-0.000197484" ixz="0.001813659" iyy="0.008182071" iyz="-0.000042529" izz="0.00644909"/>
        </inertial>
        <visual>
            <geometry>
                <mesh filename="../../meshes/alexander/ALX02_01_A02_HeadLink.obj"/>
            </geometry>
            <origin rpy="0.0 0.0 0.0" xyz="0.0 0.0 0.0"/>
        </visual>
        <collision name="head_collision">
            <origin xyz="0.03237 -0.013568 0.017163" rpy="0 0 0"/>
            <geometry>
                <sphere radius="0.13"/>
            </geometry>
        </collision>
    </link>

    <!-- HEAD IMU -->
    <joint name="HEAD_IMU_JOINT" type="fixed">
        <origin rpy="0.56723 0.0 1.5708 " xyz="0.040556 -0.014155 0.057016"/>
        <axis xyz="0 0 1"/>
        <parent link="HEAD_LINK"/>
        <child link="HEAD_IMU_LINK"/>
    </joint>

    <link name="HEAD_IMU_LINK">
        <inertial>
            <mass value="0"/>
            <origin rpy="0 0 0" xyz="0 0 0"/>
            <inertia ixx="0.0" ixy="0.0" ixz="0.0" iyy="0.0" iyz="0.0" izz="0.0"/>
        </inertial>
    </link>

    <gazebo reference="HEAD_IMU_LINK">
        <sensor name="head_imu" type="imu">
            <always_on>true</always_on>
            <imu>
                <noise>
                    <type>gaussian</type>
                    <rate>
                        <mean>0</mean>
                        <stddev>0.0002</stddev>
                        <bias_mean>7.5e-06</bias_mean>
                        <bias_stddev>8e-07</bias_stddev>
                    </rate>
                    <accel>
                        <mean>0</mean>
                        <stddev>0.017</stddev>
                        <bias_mean>0.1</bias_mean>
                        <bias_stddev>0.001</bias_stddev>
                    </accel>
                </noise>
            </imu>
        </sensor>
    </gazebo>

    <!-- Left Arm -->
    <link name="LEFT_SHOULDER_Y_LINK">
        <inertial>
            <mass value="2.99"/>
            <origin rpy="0 0 0" xyz="-0.00264 0.12135 -0.006824"/>
            <inertia ixx="0.0111046" ixy="0.0002882" ixz="-0.000054" iyy="0.0051699" iyz="0.0009318" izz="0.01176"/>
        </inertial>
        <visual>
            <geometry>
                <mesh filename="../../meshes/alexander/cycloidal_arm/LeftShoulderPitchLink.obj"/>
            </geometry>
            <origin rpy="0.0 0.0 0.0" xyz="0.0 0.0 0.0"/>
        </visual>
    </link>
    <link name="LEFT_SHOULDER_X_LINK">
        <inertial>
            <mass value="0.972"/>
            <origin rpy="0 0 0" xyz="0.01251711 0.0188309 -0.03849849"/>
            <inertia ixx="0.0029485" ixy="0.0001386" ixz="-0.0003345" iyy="0.0023587" iyz="0.0005255" izz="0.0014366"/>
        </inertial>
        <visual>
            <geometry>
                <mesh filename="../../meshes/alexander/cycloidal_arm/LeftShoulderRollLink_shortBicep.obj"/>
            </geometry>
            <origin rpy="0.0 0.0 0.0" xyz="0.0 0.0 0.0"/>
        </visual>
    </link>
    <link name="LEFT_SHOULDER_Z_LINK">
        <inertial>
            <mass value="2.91"/>
            <origin rpy="0 0 0" xyz="0.00510403 0.00274 -0.21745"/>
            <inertia ixx="0.0267829" ixy="-0.000011" ixz="0.0015998" iyy="0.0265514" iyz="0.0004426" izz="0.003052"/>
        </inertial>
        <visual>
            <geometry>
                <mesh filename="../../meshes/alexander/cycloidal_arm/LeftShoulderYawLink.obj"/>
            </geometry>
            <origin rpy="0.0 0.0 0.0" xyz="0.0 0.0 0.0867"/>
        </visual>
        <collision name="left_shoulder_z_collision">
            <origin xyz="0 0 -0.17" rpy="0 0 0"/>
            <geometry>
                <cylinder radius="0.05" length="0.15"/>
            </geometry>
        </collision>
    </link>
    <link name="LEFT_ELBOW_Y_LINK">
        <inertial>
            <mass value="0.45"/>
            <origin rpy="0 0 0" xyz="-0.01180322 -0.0035763 -0.04946747"/>
            <inertia ixx="0.0007362" ixy="-0.0000088" ixz="-0.0000292" iyy="0.0006567" iyz="0.0001499" izz="0.0004897"/>
        </inertial>
        <visual>
            <geometry>
                <mesh filename="../../meshes/alexander/cycloidal_arm/LeftElbowPitchLink.obj"/>
            </geometry>
            <origin rpy="0.0 0.0 0.0" xyz="0.0 0.0 0.0"/>
        </visual>
    </link>
    <link name="LEFT_WRIST_Z_LINK">
        <inertial>
            <mass value="1.547"/> <!-- This is a measured value. Refer to https://docs.google.com/spreadsheets/d/1VXWFJk3VJUsfkHrDaytB2INq94un1KytIOzcKJD0p44/edit?gid=0#gid=0  -->
            <origin rpy="0 0 0" xyz="-0.00263832 -0.00050534 -0.13018376"/>
            <inertia ixx="0.0037869" ixy="0.0000163" ixz="-0.0000252" iyy="0.004071" iyz="-0.0000924" izz="0.0015203"/>
        </inertial>
        <visual>
            <geometry>
                <mesh filename="../../meshes/alexander/cycloidal_arm/LeftWristYawLink.obj"/>
            </geometry>
            <origin rpy="0.0 0.0 0.0" xyz="0.0 0.0 0.0"/>
        </visual>
        <collision name="left_wrist_z_box_collision">
            <origin xyz="-0.06 0 -0.15" rpy="0 0 0"/>
            <geometry>
                <box size="0.01 0.06 0.1"/>
            </geometry>
        </collision>
        <collision name="left_wrist_z_cylinder_collision">
            <origin xyz="0 0 -0.15" rpy="0 0 0"/>
            <geometry>
                <cylinder radius="0.044" length="0.12"/>
            </geometry>
        </collision>
    </link>
    <link name="LEFT_WRIST_X_LINK">
        <inertial>
            <mass value="0.909"/> <!-- This is a measured value. Refer to https://docs.google.com/spreadsheets/d/1VXWFJk3VJUsfkHrDaytB2INq94un1KytIOzcKJD0p44/edit?gid=0#gid=0  -->
            <origin rpy="0 0 0" xyz="0.00004053 0.01038395 0.00035532"/>
            <inertia ixx="0.000477" ixy="-0.0000079" ixz="-0.0000097" iyy="0.0004902" iyz="-0.0000008" izz="0.000514"/>
        </inertial>
        <visual>
            <geometry>
                <mesh filename="../../meshes/alexander/cycloidal_arm/LeftWristRollLink.obj"/>
            </geometry>
            <origin rpy="0.0 0.0 0.0" xyz="0.0 0.0 0.0"/>
        </visual>
    </link>
    <link name="LEFT_GRIPPER_Z_LINK">
        <inertial>
            <mass value="0.251"/>
            <origin
                    rpy="0 0 0"
                    xyz="-0.000217 -0.000349 0.009761"/>
            <inertia ixx="0.0000722" ixy="-0.0000016" ixz="-0.0000037" iyy="0.0000747" iyz="0.0000004" izz="0.0000324"/>
        </inertial>
        <visual>
            <geometry>
                <mesh filename="../../meshes/alexander/cycloidal_arm/nub.obj"/>
            </geometry>
            <origin rpy="0.0 1.57 0.0" xyz="0.0 0.0 0.0"/>
        </visual>
        <collision name="left_gripper_z_collision">
            <origin xyz="0 0 -0.02" rpy="0 0 0"/>
            <geometry>
                <sphere radius="0.05"/>
            </geometry>
        </collision>
    </link>

    <!-- Left arm IMU Information -->
    <link name="LEFT_SHOULDER_Y_IMU_LINK">
        <inertial>
            <mass value="0"/>
            <origin rpy="0 0 0" xyz="0 0 0"/>
            <inertia ixx="0.0" ixy="0.0" ixz="0.0" iyy="0.0" iyz="0.0" izz="0.0"/>
        </inertial>
    </link>
    <!-- LEFT SHOULDER PITCH IMU Information -->
    <joint name="LEFT_SHOULDER_Y_IMU_JOINT" type="fixed">
        <origin rpy="-1.570796 1.570796 0" xyz="0.0174 0.06944 -0.03025"/>
        <axis xyz="0 0 1"/>
        <parent link="LEFT_SHOULDER_Y_LINK"/>
        <child link="LEFT_SHOULDER_Y_IMU_LINK"/>
    </joint>
    <gazebo reference="LEFT_SHOULDER_Y_IMU_LINK">
        <sensor name="left_shoulder_y_imu" type="imu">
            <always_on>true</always_on>
            <imu>
                <noise>
                    <type>gaussian</type>
                    <rate>
                        <mean>0</mean>
                        <stddev>0.0002</stddev>
                        <bias_mean>7.5e-06</bias_mean>
                        <bias_stddev>8e-07</bias_stddev>
                    </rate>
                    <accel>
                        <mean>0</mean>
                        <stddev>0.017</stddev>
                        <bias_mean>0.1</bias_mean>
                        <bias_stddev>0.001</bias_stddev>
                    </accel>
                </noise>
            </imu>
        </sensor>
    </gazebo>

    <!-- Left Shoulder Yaw IMU -->
    <!-- Note: in CAD this is the left bicep IMU -->
    <link name="LEFT_SHOULDER_Z_IMU_LINK">
        <inertial>
            <mass value="0"/>
            <origin rpy="0 0 0" xyz="0 0 0"/>
            <inertia ixx="0.0" ixy="0.0" ixz="0.0" iyy="0.0" iyz="0.0" izz="0.0"/>
        </inertial>
    </link>
    <joint name="LEFT_SHOULDER_Z_IMU_JOINT" type="fixed">
        <origin rpy="-1.570796 3.1415926 -0.314159" xyz="-0.00763459 -0.0123324 -0.318"/>
        <axis xyz="0 0 1"/>
        <parent link="LEFT_SHOULDER_Z_LINK"/>
        <child link="LEFT_SHOULDER_Z_IMU_LINK"/>
    </joint>
    <gazebo reference="LEFT_SHOULDER_Z_IMU_LINK">
        <sensor name="left_shoulder_z_imu" type="imu">
            <always_on>true</always_on>
            <pose>0 0 0 0 0 0</pose>
            <imu>
                <noise>
                    <type>gaussian</type>
                    <rate>
                        <mean>0</mean>
                        <stddev>0.0002</stddev>
                        <bias_mean>7.5e-06</bias_mean>
                        <bias_stddev>8e-07</bias_stddev>
                    </rate>
                    <accel>
                        <mean>0</mean>
                        <stddev>0.017</stddev>
                        <bias_mean>0.1</bias_mean>
                        <bias_stddev>0.001</bias_stddev>
                    </accel>
                </noise>
            </imu>
        </sensor>
    </gazebo>

    <joint name="LEFT_WRIST_Z_IMU_JOINT" type="fixed">
        <origin rpy="1.571 0.0 1.571" xyz="-0.033554 0.010450 -0.148527"/>
        <axis xyz="0 0 1"/>
        <parent link="LEFT_WRIST_Z_LINK"/>
        <child link="LEFT_WRIST_Z_IMU_LINK"/>
    </joint>

    <link name="LEFT_WRIST_Z_IMU_LINK">
        <inertial>
            <mass value="0"/>
            <origin rpy="0 0 0" xyz="0 0 0"/>
            <inertia ixx="0.0" ixy="0.0" ixz="0.0" iyy="0.0" iyz="0.0" izz="0.0"/>
        </inertial>
    </link>

    <gazebo reference="LEFT_WRIST_Z_IMU_LINK">
        <sensor name="left_wrist_z_imu" type="imu">
            <always_on>true</always_on>
            <imu>
                <noise>
                    <type>gaussian</type>
                    <rate>
                        <mean>0</mean>
                        <stddev>0.0002</stddev>
                        <bias_mean>7.5e-06</bias_mean>
                        <bias_stddev>8e-07</bias_stddev>
                    </rate>
                    <accel>
                        <mean>0</mean>
                        <stddev>0.017</stddev>
                        <bias_mean>0.1</bias_mean>
                        <bias_stddev>0.001</bias_stddev>
                    </accel>
                </noise>
            </imu>
        </sensor>
    </gazebo>

    <joint name="LEFT_GRIPPER_Z_IMU_JOINT" type="fixed">
        <origin rpy="0 0 0" xyz="0 0 0"/>
        <axis xyz="0 0 1"/>
        <parent link="LEFT_GRIPPER_Z_LINK"/>
        <child link="LEFT_GRIPPER_Z_IMU_LINK"/>
    </joint>

    <link name="LEFT_GRIPPER_Z_IMU_LINK">
        <inertial>
            <mass value="0"/>
            <origin rpy="0 0 0" xyz="0 0 0"/>
            <inertia ixx="0.0" ixy="0.0" ixz="0.0" iyy="0.0" iyz="0.0" izz="0.0"/>
        </inertial>
    </link>

    <gazebo reference="LEFT_GRIPPER_Z_IMU_LINK">
        <sensor name="left_gripper_z_imu" type="imu">
            <always_on>true</always_on>
            <imu>
                <noise>
                    <type>gaussian</type>
                    <rate>
                        <mean>0</mean>
                        <stddev>0.0002</stddev>
                        <bias_mean>7.5e-06</bias_mean>
                        <bias_stddev>8e-07</bias_stddev>
                    </rate>
                    <accel>
                        <mean>0</mean>
                        <stddev>0.017</stddev>
                        <bias_mean>0.1</bias_mean>
                        <bias_stddev>0.001</bias_stddev>
                    </accel>
                </noise>
            </imu>
        </sensor>
    </gazebo>

    <!-- Right Arm -->
    <link name="RIGHT_SHOULDER_Y_LINK">
        <inertial>
            <mass value="2.99"/>
            <origin rpy="0 0 0" xyz="-0.00264 -0.12135 -0.006824"/>
            <inertia ixx="0.0110394" ixy="-0.0003041" ixz="-0.0000594" iyy="0.0051097" iyz="-0.0009183" izz="0.0116925"/>
        </inertial>
        <visual>
            <geometry>
                <mesh filename="../../meshes/alexander/cycloidal_arm/RightShoulderPitchLink.obj"/>
            </geometry>
            <origin rpy="0.0 0.0 0.0" xyz="0.0 0.0 0.0"/>
        </visual>
    </link>
    <link name="RIGHT_SHOULDER_X_LINK">
        <inertial>
            <mass value="0.972"/>
            <origin rpy="0 0 0" xyz="0.012489 -0.01882 -0.0385"/>
            <inertia ixx="0.002949" ixy="-0.000135" ixz="-0.0003358" iyy="0.0023603" iyz="-0.0005249" izz="0.0014377"/>
        </inertial>
        <visual>
            <geometry>
                <mesh filename="../../meshes/alexander/cycloidal_arm/RightShoulderRollLink_shortBicep.obj"/>
            </geometry>
            <origin rpy="0.0 0.0 0.0" xyz="0.0 0.0 0.0"/>
        </visual>
    </link>
    <link name="RIGHT_SHOULDER_Z_LINK">
        <inertial>
            <mass value="2.91"/>
            <origin rpy="0 0 0" xyz="0.00524 -0.00274 -0.21745"/>
            <inertia ixx="0.0248699" ixy="0.0000211" ixz="0.0000211" iyy="0.0245973" iyz="-0.0004444" izz="0.0029883"/>
        </inertial>
        <visual>
            <geometry>
                <mesh filename="../../meshes/alexander/cycloidal_arm/RightShoulderYawLink.obj"/>
            </geometry>
            <origin rpy="0.0 0.0 0.0" xyz="0.0 0.0 0.0867"/>
        </visual>
        <collision name="right_shoulder_z_collision">
            <origin xyz="0 0 -0.17" rpy="0 0 0"/>
            <geometry>
                <cylinder radius="0.05" length="0.15"/>
            </geometry>
        </collision>
    </link>
    <link name="RIGHT_ELBOW_Y_LINK">
        <inertial>
            <mass value="0.45"/>
            <origin xyz="-0.0127 0.006913 -0.048421" rpy="0 0 0"/>
            <inertia ixx="0.0006446" ixy="-0.0000073" ixz="-0.0000345" iyy="0.000625" iyz="-0.0001257" izz="0.0003922"/>
        </inertial>
        <visual>
            <geometry>
                <mesh filename="../../meshes/alexander/cycloidal_arm/RightElbowPitchLink.obj"/>
            </geometry>
            <origin rpy="0.0 0.0 0.0" xyz="0.0 0.0 0.0"/>
        </visual>
    </link>
    <link name="RIGHT_WRIST_Z_LINK">
        <inertial>
            <mass value="1.547"/> <!-- This is a measured value. Refer to https://docs.google.com/spreadsheets/d/1VXWFJk3VJUsfkHrDaytB2INq94un1KytIOzcKJD0p44/edit?gid=0#gid=0  -->
            <origin xyz="-0.002616 0.000462 -0.13019" rpy="0 0 0"/>
            <inertia ixx="0.0037805" ixy="-0.0000177" ixz="-0.000025" iyy="0.0040639" iyz="0.00009" izz="0.0015151"/>
        </inertial>
        <visual>
            <geometry>
                <mesh filename="../../meshes/alexander/cycloidal_arm/RightWristYawLink.obj"/>
            </geometry>
            <origin rpy="0.0 0.0 0.0" xyz="0.0 0.0 0.0"/>
        </visual>
        <collision name="right_wrist_z_box_collision">
            <origin xyz="-0.06 0 -0.15" rpy="0 0 0"/>
            <geometry>
                <box size="0.01 0.06 0.1"/>
            </geometry>
        </collision>
        <collision name="right_wrist_z_cylinder_collision">
            <origin xyz="0 0 -0.15" rpy="0 0 0"/>
            <geometry>
                <cylinder radius="0.044" length="0.12"/>
            </geometry>
        </collision>
    </link>
    <link name="RIGHT_WRIST_X_LINK">
        <inertial>
            <mass value="0.909"/> <!-- This is a measured value. Refer to https://docs.google.com/spreadsheets/d/1VXWFJk3VJUsfkHrDaytB2INq94un1KytIOzcKJD0p44/edit?gid=0#gid=0  -->
            <origin xyz="-0.0000481 -0.012143 0.000196" rpy="0 0 0"/>
            <inertia ixx="0.0005535" ixy="0.0000081" ixz="-0.0000231" iyy="0.0005559" iyz="0.0000012" izz="0.0005893"/>
        </inertial>
        <visual>
            <geometry>
                <mesh filename="../../meshes/alexander/cycloidal_arm/RightWristRollLink.obj"/>
            </geometry>
            <origin rpy="0.0 0.0 0.0" xyz="0.0 0.0 0.0"/>
        </visual>
    </link>
    <link name="RIGHT_GRIPPER_Z_LINK">
        <inertial>
            <mass value="0.251"/>
            <origin rpy="0 0 0" xyz="-0.000217 -0.000349 0.009761"/>
            <inertia ixx="0.0000722" ixy="-0.0000016" ixz="-0.0000037" iyy="0.0000747" iyz="0.0000004" izz="0.0000324"/>
        </inertial>
        <visual>
            <geometry>
                <mesh filename="../../meshes/alexander/cycloidal_arm/nub.obj"/>
            </geometry>
            <origin rpy="0.0 1.57 0.0" xyz="0.0 0.0 0.0"/>
        </visual>
        <collision name="right_gripper_z_collision">
            <origin xyz="0 0 -0.02" rpy="0 0 0"/>
            <geometry>
                <sphere radius="0.05"/>
            </geometry>
        </collision>
    </link>

    <!-- Right arm IMU Information -->
    <!-- Right Shoulder Pitch IMU -->
    <joint name="RIGHT_SHOULDER_Y_IMU_JOINT" type="fixed">
        <origin rpy="1.570796 -1.570796 0" xyz="0.0175 -0.0704 -0.00778"/>
        <axis xyz="0 0 1"/>
        <parent link="RIGHT_SHOULDER_Y_LINK"/>
        <child link="RIGHT_SHOULDER_Y_IMU_LINK"/>
    </joint>
    <link name="RIGHT_SHOULDER_Y_IMU_LINK">
        <inertial>
            <mass value="0"/>
            <origin rpy="0 0 0" xyz="0 0 0"/>
            <inertia ixx="0.0" ixy="0.0" ixz="0.0" iyy="0.0" iyz="0.0" izz="0.0"/>
        </inertial>
    </link>
    <gazebo reference="RIGHT_SHOULDER_Y_IMU_LINK">
        <sensor name="right_shoulder_y_imu" type="imu">
            <always_on>true</always_on>
            <imu>
                <noise>
                    <type>gaussian</type>
                    <rate>
                        <mean>0</mean>
                        <stddev>0.0002</stddev>
                        <bias_mean>7.5e-06</bias_mean>
                        <bias_stddev>8e-07</bias_stddev>
                    </rate>
                    <accel>
                        <mean>0</mean>
                        <stddev>0.017</stddev>
                        <bias_mean>0.1</bias_mean>
                        <bias_stddev>0.001</bias_stddev>
                    </accel>
                </noise>
            </imu>
        </sensor>
    </gazebo>

    <!-- Right Shoulder Yaw IMU -->
    <joint name="RIGHT_SHOULDER_Z_IMU_JOINT" type="fixed">
        <origin rpy="1.570796 0 0.314159" xyz="0.002 0.016 -0.318"/>
        <axis xyz="0 0 1"/>
        <parent link="RIGHT_SHOULDER_Z_LINK"/>
        <child link="RIGHT_SHOULDER_Z_IMU_LINK"/>
    </joint>

    <link name="RIGHT_SHOULDER_Z_IMU_LINK">
        <inertial>
            <mass value="0"/>
            <origin rpy="0 0 0" xyz="0 0 0"/>
            <inertia ixx="0.0" ixy="0.0" ixz="0.0" iyy="0.0" iyz="0.0" izz="0.0"/>
        </inertial>
    </link>

    <gazebo reference="RIGHT_SHOULDER_Z_IMU_LINK">
        <sensor name="right_shoulder_z_imu" type="imu">
            <always_on>true</always_on>
            <imu>
                <noise>
                    <type>gaussian</type>
                    <rate>
                        <mean>0</mean>
                        <stddev>0.0002</stddev>
                        <bias_mean>7.5e-06</bias_mean>
                        <bias_stddev>8e-07</bias_stddev>
                    </rate>
                    <accel>
                        <mean>0</mean>
                        <stddev>0.017</stddev>
                        <bias_mean>0.1</bias_mean>
                        <bias_stddev>0.001</bias_stddev>
                    </accel>
                </noise>
            </imu>
        </sensor>
    </gazebo>

    <joint name="RIGHT_WRIST_Z_IMU_JOINT" type="fixed">
        <origin rpy="1.571  0.0 1.571" xyz="-0.033554 0.010450 -0.148527"/>
        <axis xyz="0 0 1"/>
        <parent link="RIGHT_WRIST_Z_LINK"/>
        <child link="RIGHT_WRIST_Z_IMU_LINK"/>
    </joint>

    <link name="RIGHT_WRIST_Z_IMU_LINK">
        <inertial>
            <mass value="0"/>
            <origin rpy="0 0 0" xyz="0 0 0"/>
            <inertia ixx="0.0" ixy="0.0" ixz="0.0" iyy="0.0" iyz="0.0" izz="0.0"/>
        </inertial>
    </link>

    <gazebo reference="RIGHT_WRIST_Z_IMU_LINK">
        <sensor name="right_wrist_z_imu" type="imu">
            <always_on>true</always_on>
            <imu>
                <noise>
                    <type>gaussian</type>
                    <rate>
                        <mean>0</mean>
                        <stddev>0.0002</stddev>
                        <bias_mean>7.5e-06</bias_mean>
                        <bias_stddev>8e-07</bias_stddev>
                    </rate>
                    <accel>
                        <mean>0</mean>
                        <stddev>0.017</stddev>
                        <bias_mean>0.1</bias_mean>
                        <bias_stddev>0.001</bias_stddev>
                    </accel>
                </noise>
            </imu>
        </sensor>
    </gazebo>

    <joint name="RIGHT_GRIPPER_Z_IMU_JOINT" type="fixed">
        <origin rpy="0 0 0" xyz="0 0 0"/>
        <axis xyz="0 0 1"/>
        <parent link="RIGHT_GRIPPER_Z_LINK"/>
        <child link="RIGHT_GRIPPER_Z_IMU_LINK"/>
    </joint>

    <link name="RIGHT_GRIPPER_Z_IMU_LINK">
        <inertial>
            <mass value="0"/>
            <origin rpy="0 0 0" xyz="0 0 0"/>
            <inertia ixx="0.0" ixy="0.0" ixz="0.0" iyy="0.0" iyz="0.0" izz="0.0"/>
        </inertial>
    </link>

    <gazebo reference="RIGHT_GRIPPER_Z_IMU_LINK">
        <sensor name="right_gripper_z_imu" type="imu">
            <always_on>true</always_on>
            <imu>
                <noise>
                    <type>gaussian</type>
                    <rate>
                        <mean>0</mean>
                        <stddev>0.0002</stddev>
                        <bias_mean>7.5e-06</bias_mean>
                        <bias_stddev>8e-07</bias_stddev>
                    </rate>
                    <accel>
                        <mean>0</mean>
                        <stddev>0.017</stddev>
                        <bias_mean>0.1</bias_mean>
                        <bias_stddev>0.001</bias_stddev>
                    </accel>
                </noise>
            </imu>
        </sensor>
    </gazebo>


    <!-- GRIPPER JOINTS AND LINKS -->
    <joint name="RIGHT_GRIPPER_ATTACHMENT_FIXED" type="fixed">
        <origin rpy="-3.141592 0 3.141592" xyz="0 0 -0.02560000"/>
        <parent link="RIGHT_GRIPPER_Z_LINK"/>
        <child link="RIGHT_GRIPPER_ATTACHMENT_FIXED_LINK"/>
    </joint>

    <joint name="LEFT_GRIPPER_ATTACHMENT_FIXED" type="fixed">
        <origin rpy="3.141592 0 0" xyz="0 0 -0.02560000"/>
        <parent link="LEFT_GRIPPER_Z_LINK"/>
        <child link="LEFT_GRIPPER_ATTACHMENT_FIXED_LINK"/>
    </joint>

    <!-- Left Psyonic Ability Hand -->
    <link name="LEFT_GRIPPER_ATTACHMENT_FIXED_LINK">
        <visual name="wrist_mesh">
            <origin rpy="0 0 0" xyz="0 0 0"/>
            <geometry>
                <mesh filename="../../meshes/alexander/wristmesh.obj"/>
            </geometry>
        </visual>
        <inertial>   <!-- the mass and inertia here are NOT correct -->
            <mass value="1.00"/>
            <inertia ixx="978.26e-6" ixy="87.34e-6" ixz="322.99e-6" iyy="1244.78e-6" iyz="244.74e-6" izz="456.22e-6"/>
            <origin xyz="22.41911e-3 -0.15798201e-3 -0.01319866e-3" rpy="0 0 0"/>
        </inertial>
    </link>

    <!-- Right Psyonic Ability Hand -->
    <link name="RIGHT_GRIPPER_ATTACHMENT_FIXED_LINK">
        <visual name="wrist_mesh">
            <origin rpy="0 0 0" xyz="0 0 0"/>
            <geometry>
                <mesh filename="../../meshes/alexander/wristmesh.obj"/>
            </geometry>
        </visual>
        <inertial>    <!-- the mass and inertia here are NOT correct -->
            <mass value="1.00"/>
            <inertia ixx="978.26e-6" ixy="87.34e-6" ixz="322.99e-6" iyy="1244.78e-6" iyz="244.74e-6" izz="456.22e-6"/>
            <origin xyz="22.41911e-3 -0.15798201e-3 -0.01319866e-3" rpy="0 0 0"/>
        </inertial>
    </link>
</robot>
